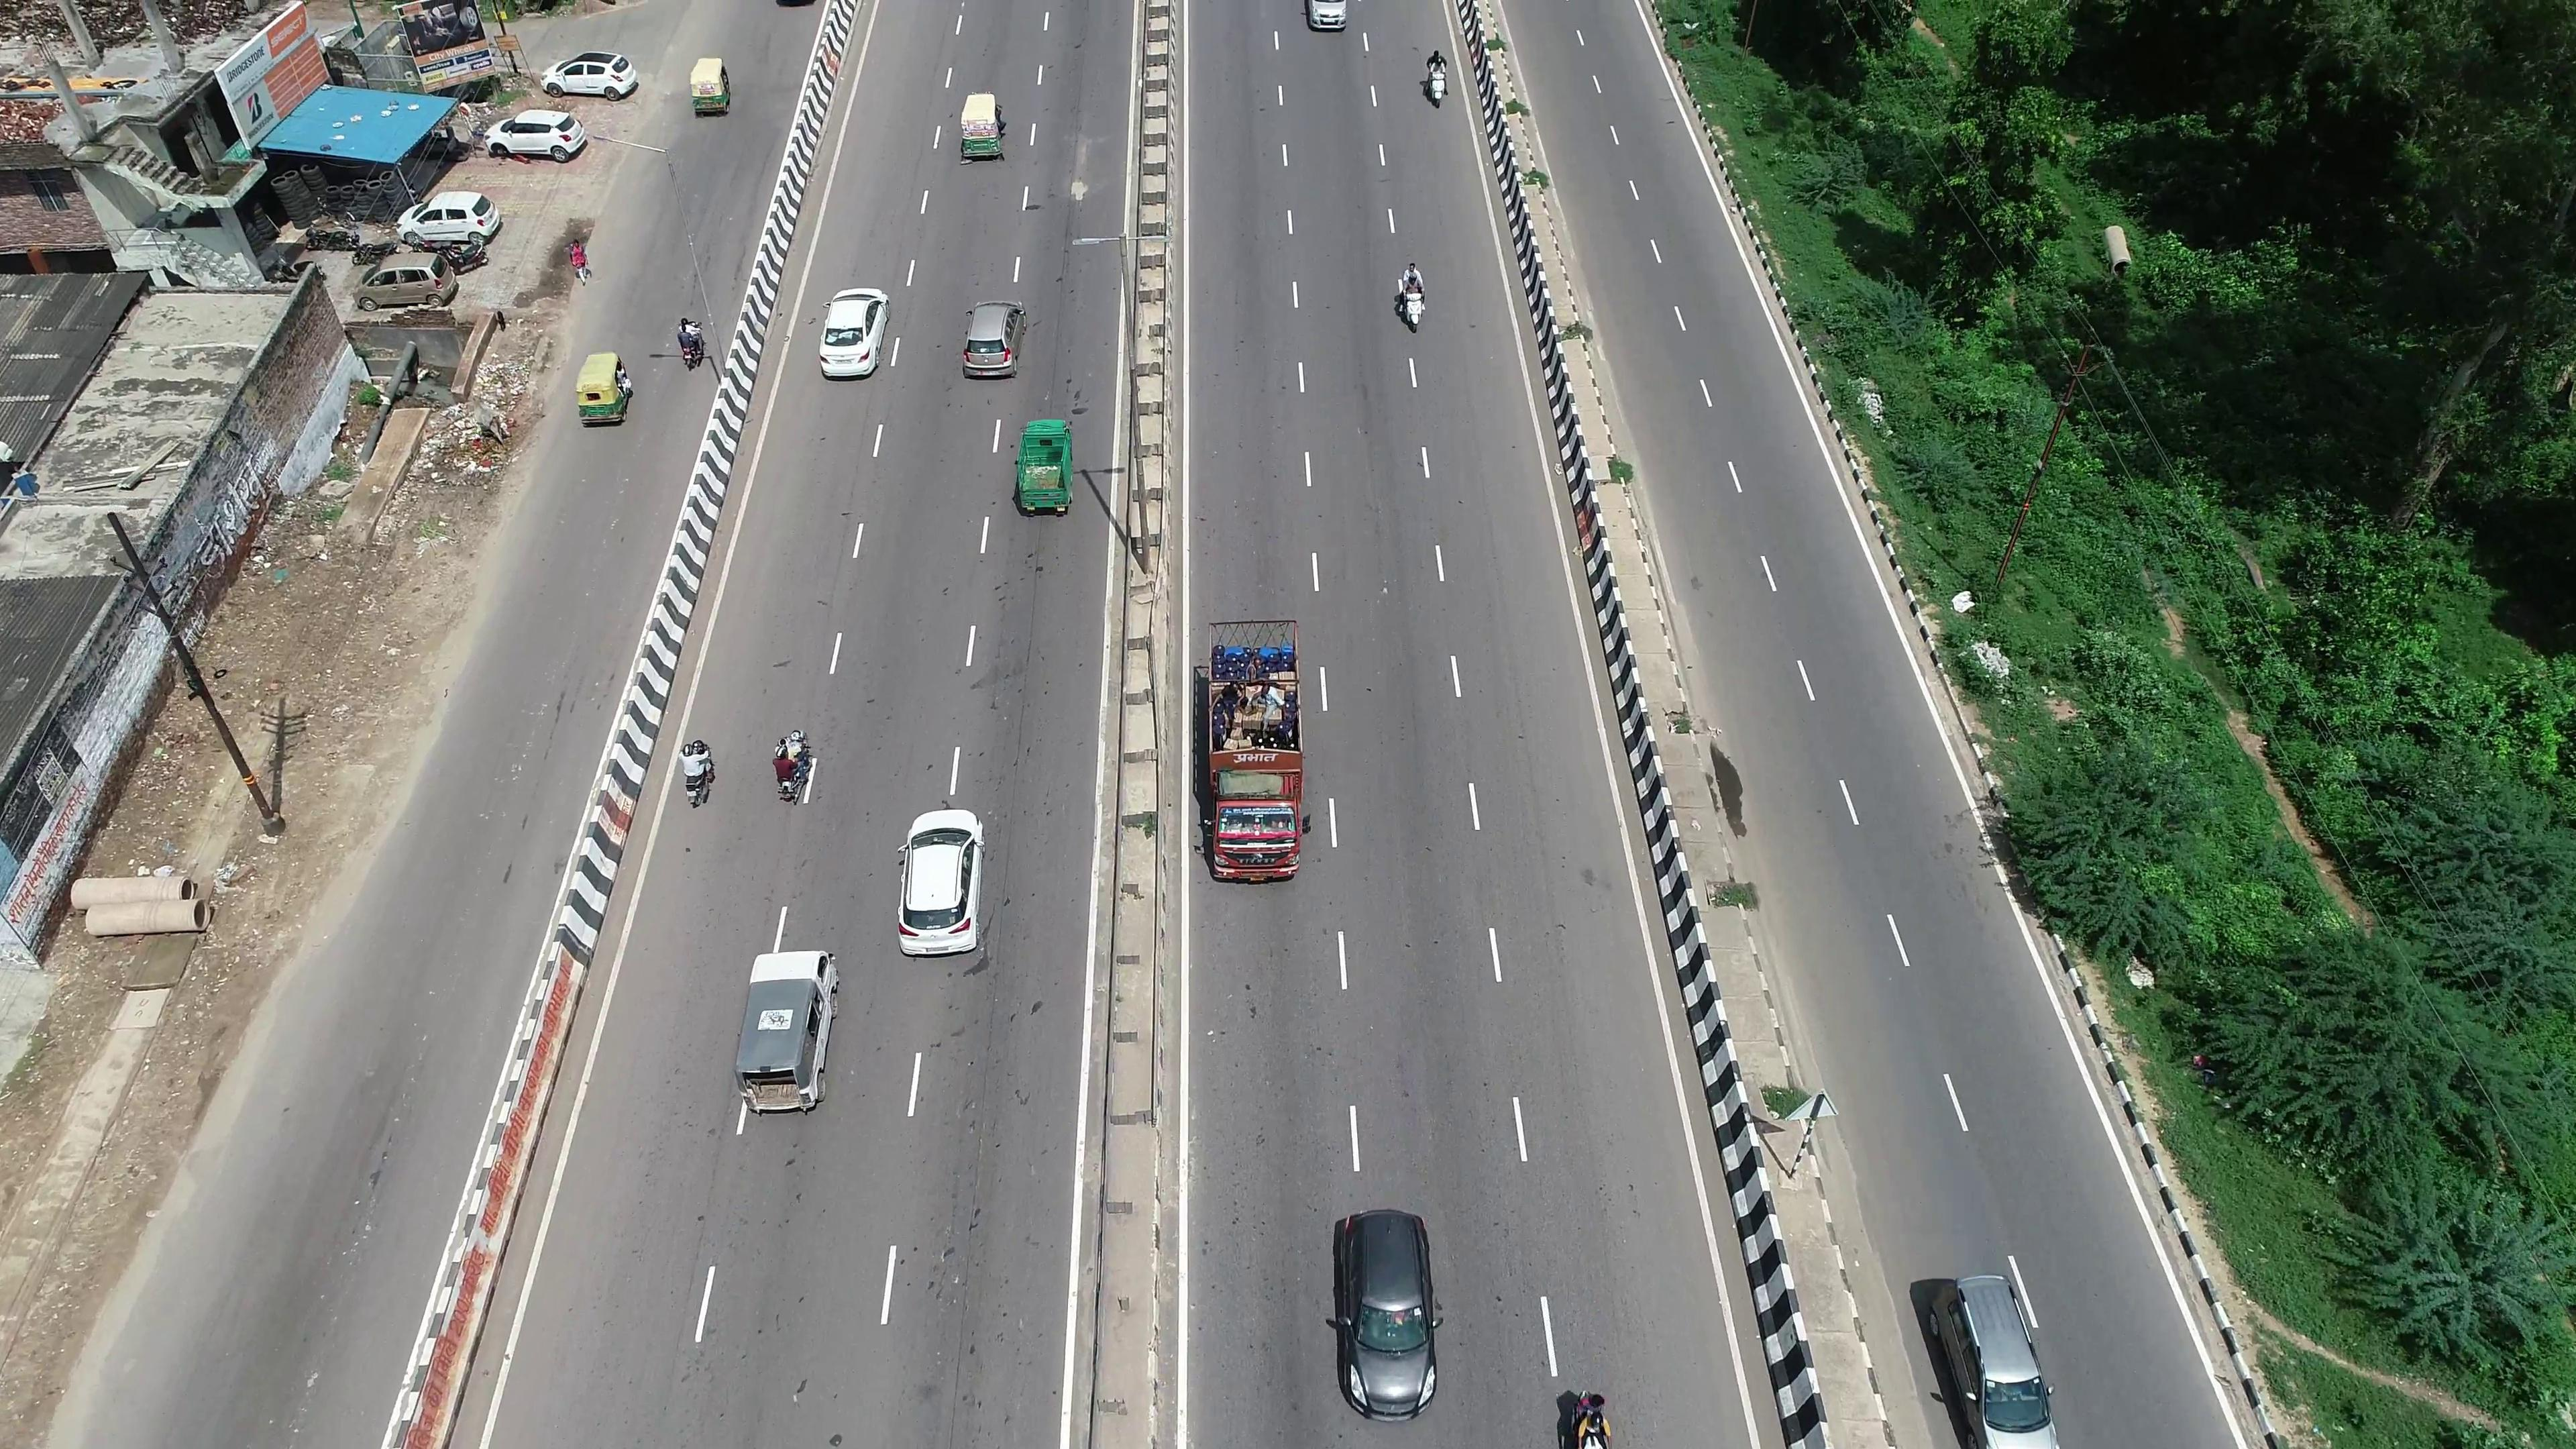Potholes: (1046, 165, 1095, 214)
